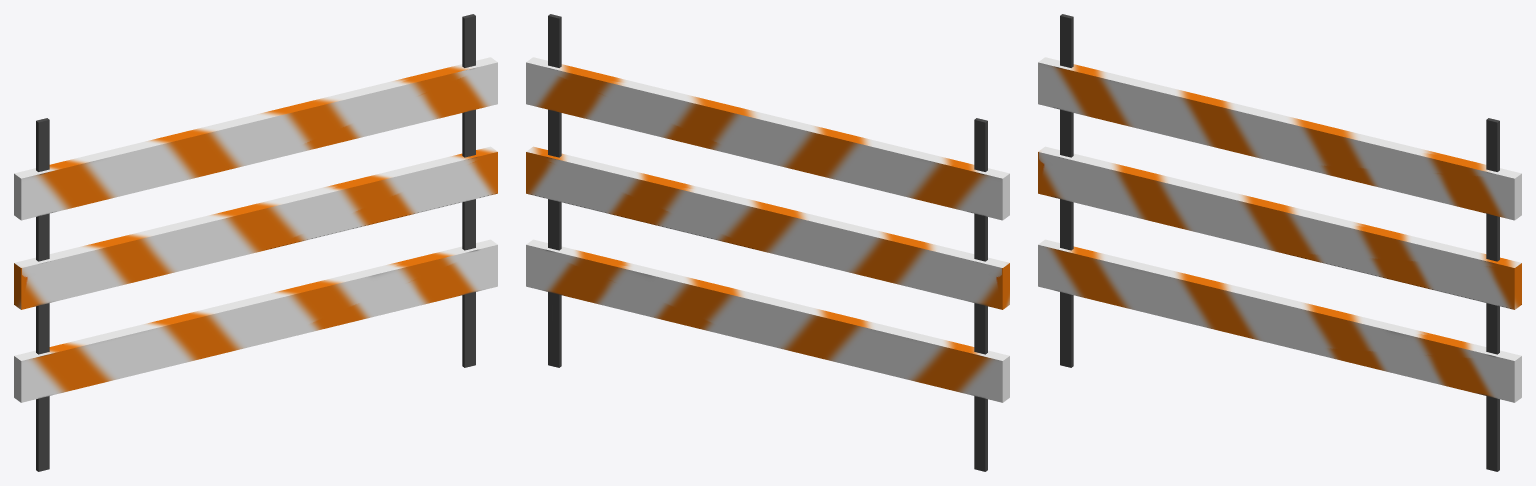
The model's file is barrier.fbx.
The picture shows the model from 3 angles, left to right: view 1: azimuth 30°, elevation 25°; view 2: azimuth 150°, elevation 25°; view 3: azimuth 330°, elevation 25°; orthographic projection.
Parts seen in each view (by area): view 1: barrier.001, barrier.002, barrier.003, barrier; view 2: barrier.001, barrier.002, barrier.003, barrier; view 3: barrier.001, barrier.002, barrier.003, barrier.
Boxes of the visible parts, box(x1,y1,x2,y2) form: barrier.001: box(14, 57, 497, 220); barrier.002: box(14, 146, 497, 309); barrier.003: box(14, 239, 497, 402); barrier: box(36, 14, 475, 471); barrier.001: box(526, 57, 1009, 220); barrier.002: box(526, 146, 1009, 309); barrier.003: box(526, 239, 1009, 402); barrier: box(548, 14, 987, 471); barrier.001: box(1038, 57, 1521, 220); barrier.002: box(1038, 146, 1521, 309); barrier.003: box(1038, 239, 1521, 402); barrier: box(1060, 14, 1499, 471).
Size of the model in its own units: 995 by 697 by 25.92.
